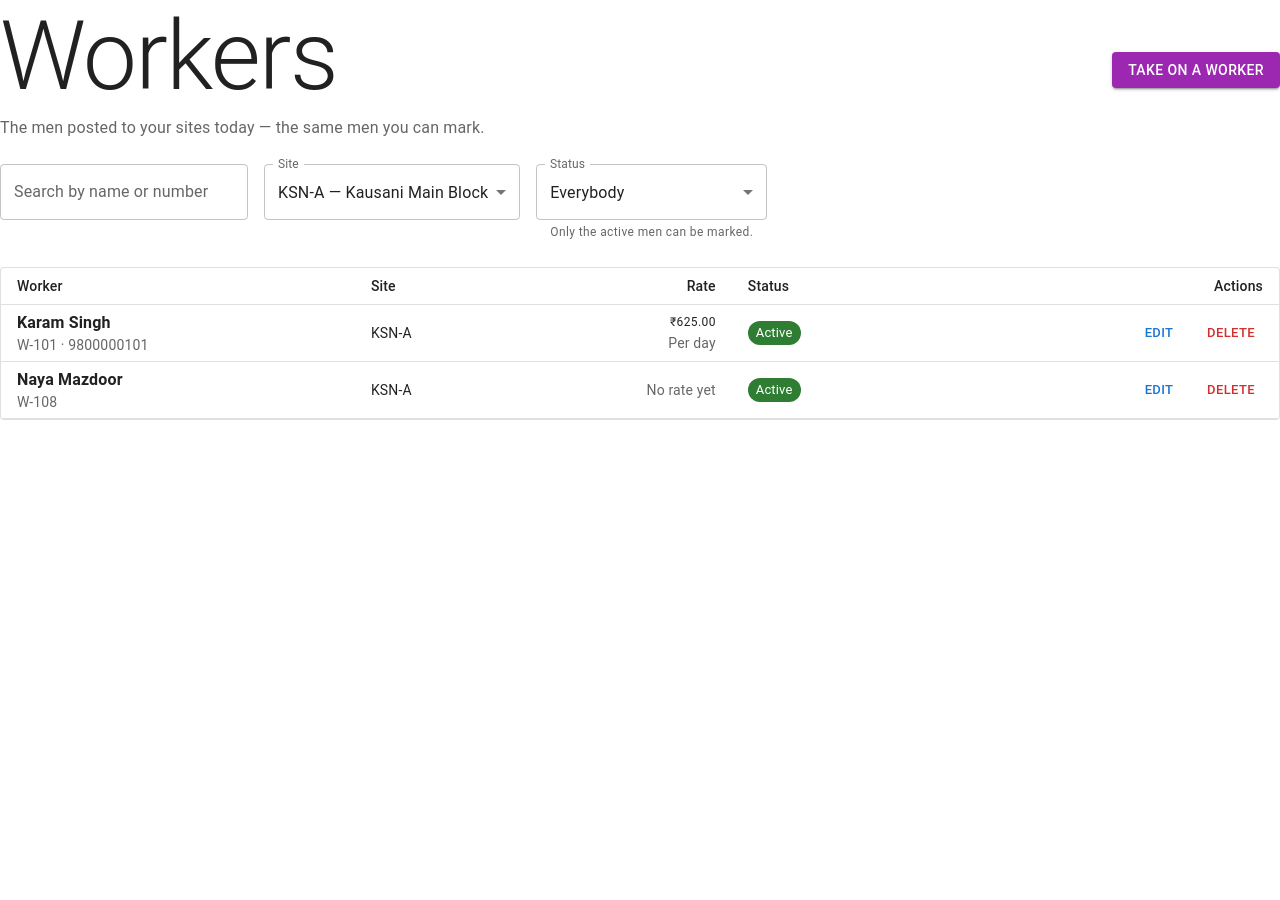
Test case: WorkersPage › shows the server’s refusal when the man has already worked
Click the button "Delete" in the row of "Karam Singh" at (1231,333), box left=1199, top=318, right=1263, bottom=348
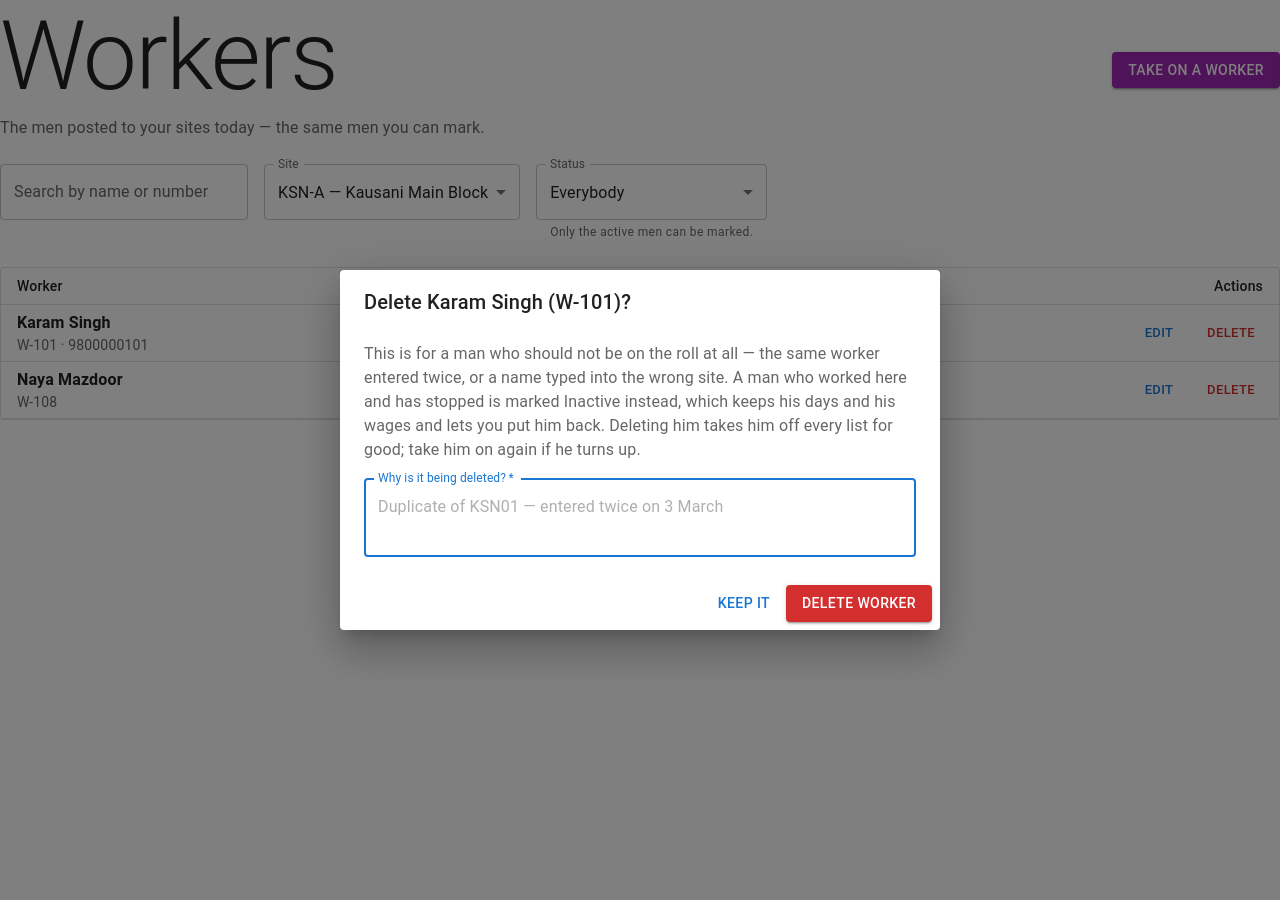
Type "Duplicate" into the text box labelled "Why is it being deleted? *" at (640,518), box left=378, top=495, right=902, bottom=541
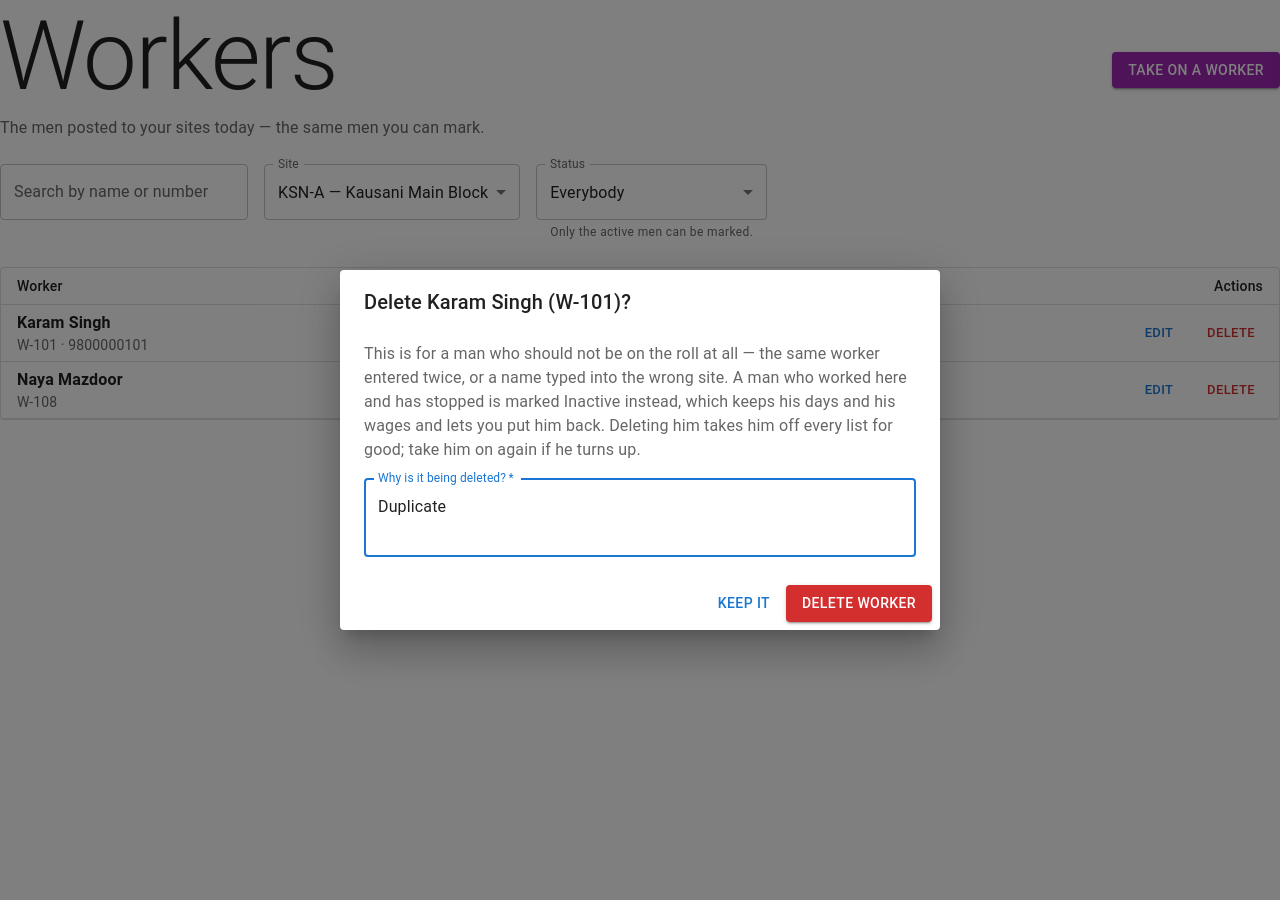
Click the button "Delete worker" at (859,604), box left=786, top=585, right=932, bottom=622
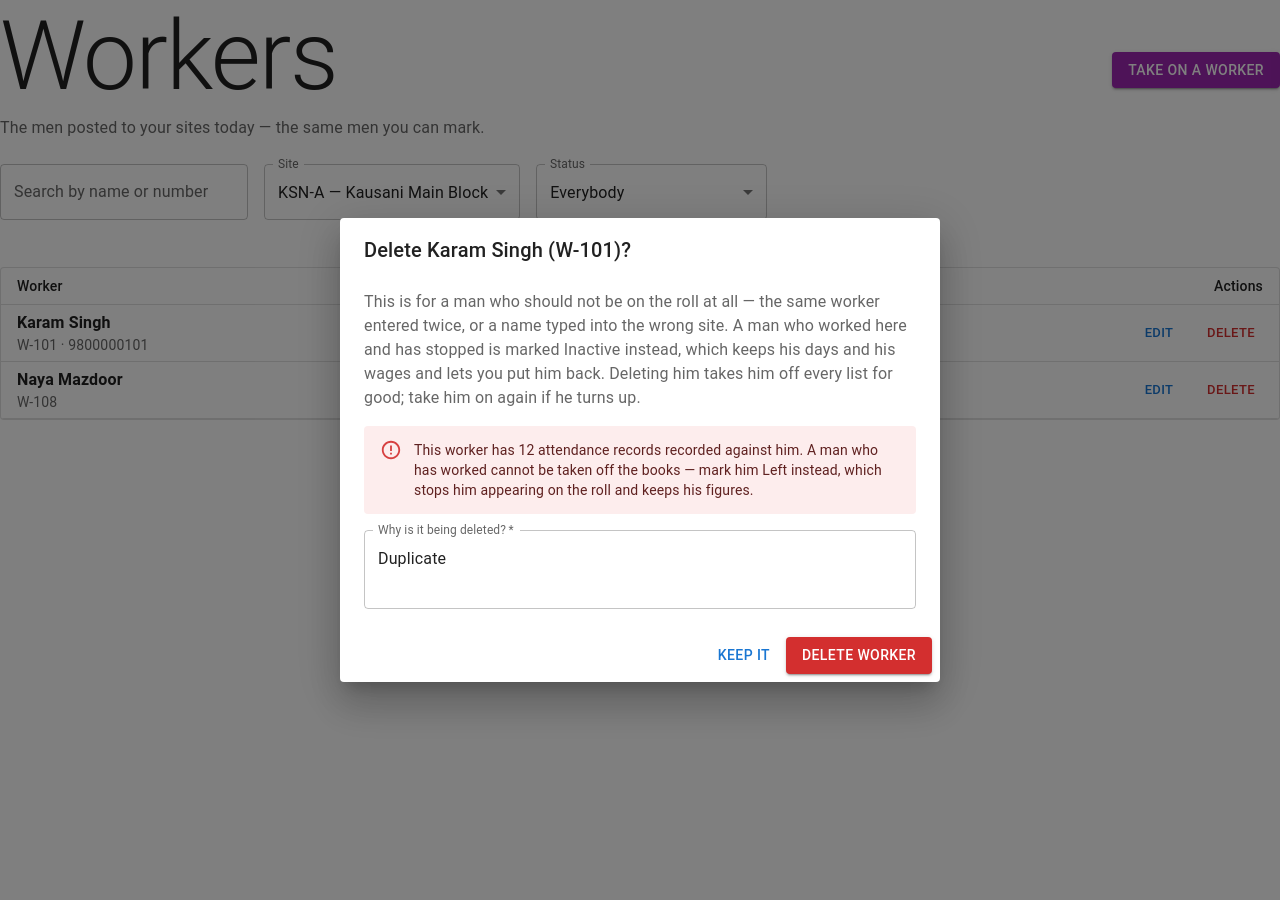
Result: the button "Delete worker" is shown at left=786, top=637, right=932, bottom=674
Result: the text "12 attendance records" is shown at left=414, top=442, right=882, bottom=498
